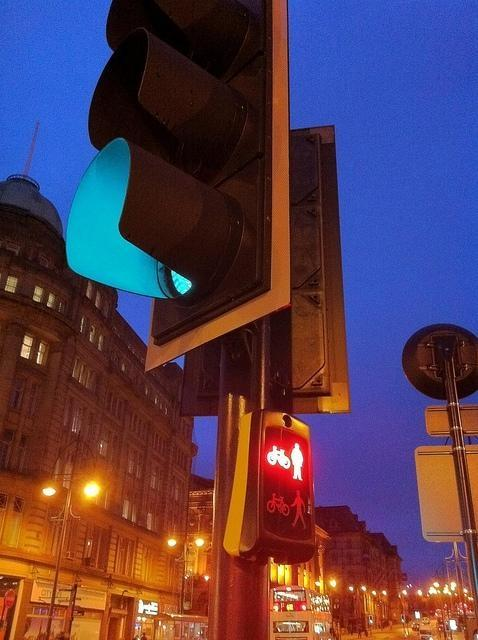car: (410, 621, 420, 631), (421, 635, 434, 640), (422, 617, 430, 624)
